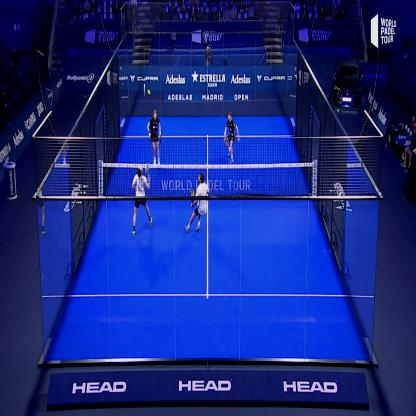ball: (144, 82, 153, 100)
